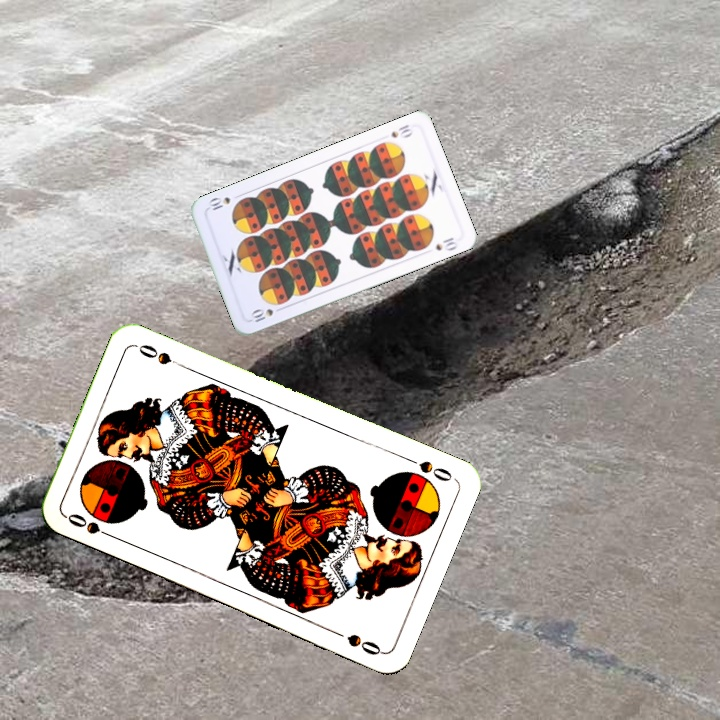S10: (247, 304, 276, 325), (387, 120, 416, 141)
SO: (62, 509, 118, 542), (401, 453, 455, 484)
